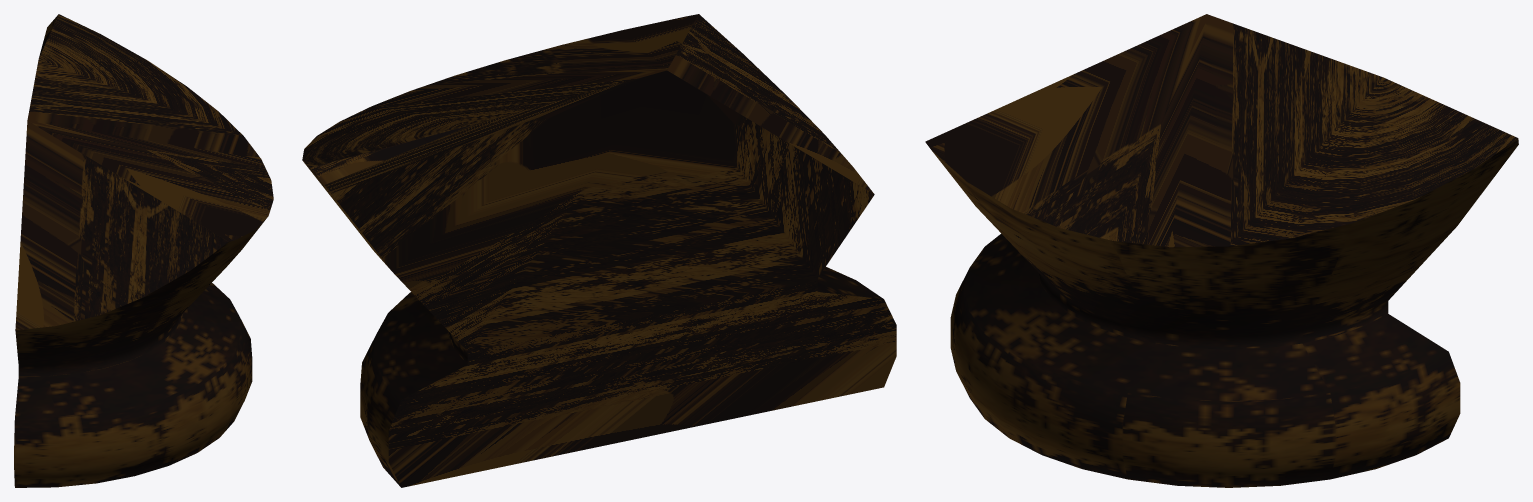
File: PoteryPiece4.fbx
3 renders of one model, left to right at view 1: azimuth 30°, elevation 25°; view 2: azimuth 150°, elevation 25°; view 3: azimuth 270°, elevation 25°, orthographic. The views are drawn at different scales.
Parts seen in each view (by area): view 1: Cylinder_cell.003; view 2: Cylinder_cell.003; view 3: Cylinder_cell.003.
Boxes of the visible parts, bbox=[...] form: Cylinder_cell.003: bbox=[14, 14, 273, 487]; Cylinder_cell.003: bbox=[302, 14, 896, 487]; Cylinder_cell.003: bbox=[925, 14, 1518, 487].
Bounding box in the file's own units: 130 × 110 × 167.
